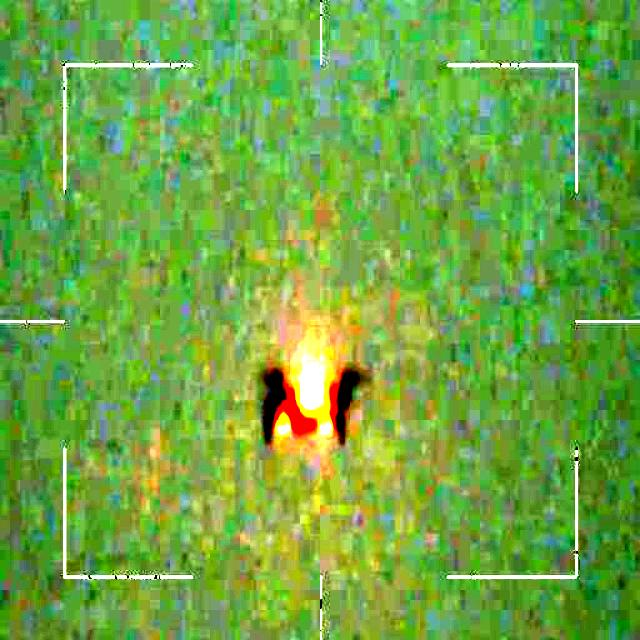bird: (255, 355, 364, 450)
